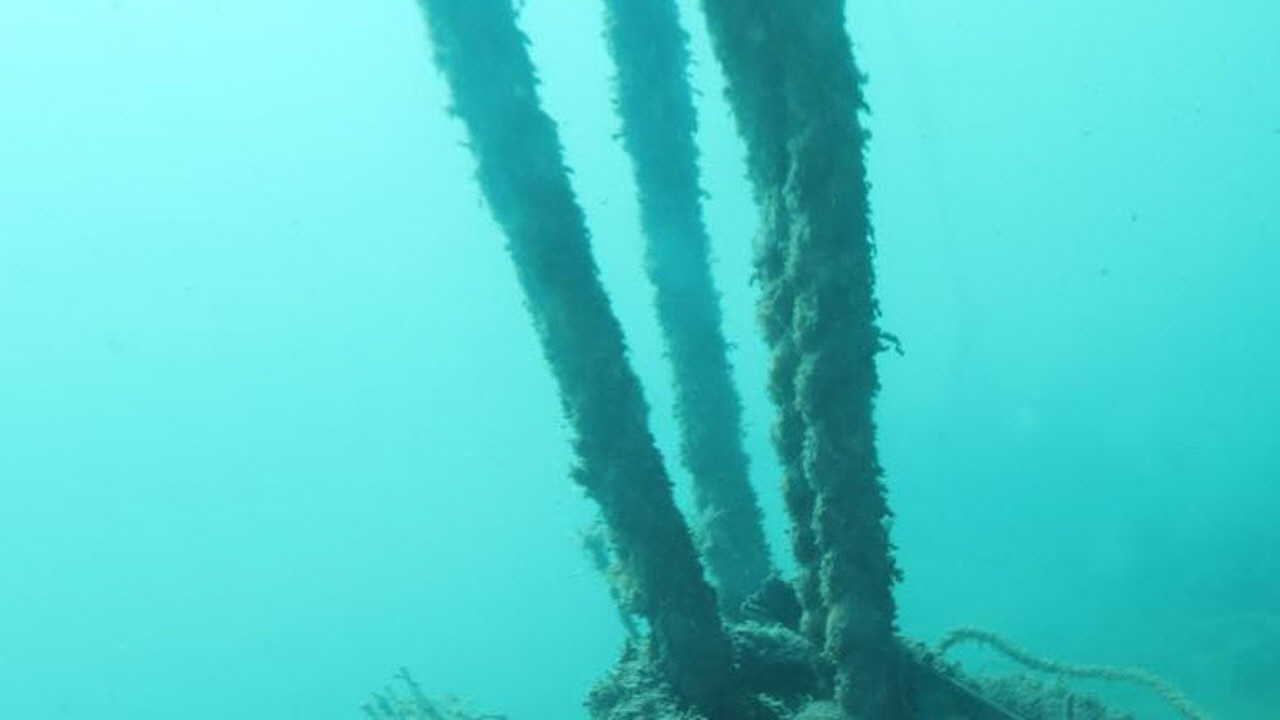bundle of ropes: (415, 1, 905, 720)
